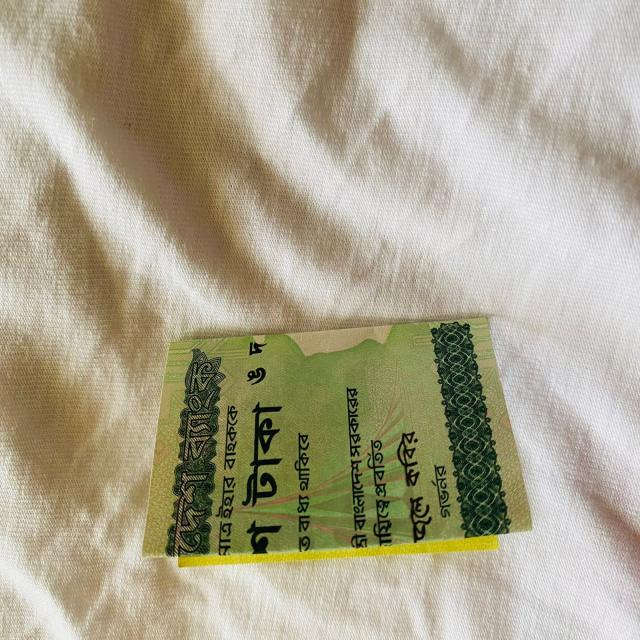Taka: (138, 311, 540, 554)
